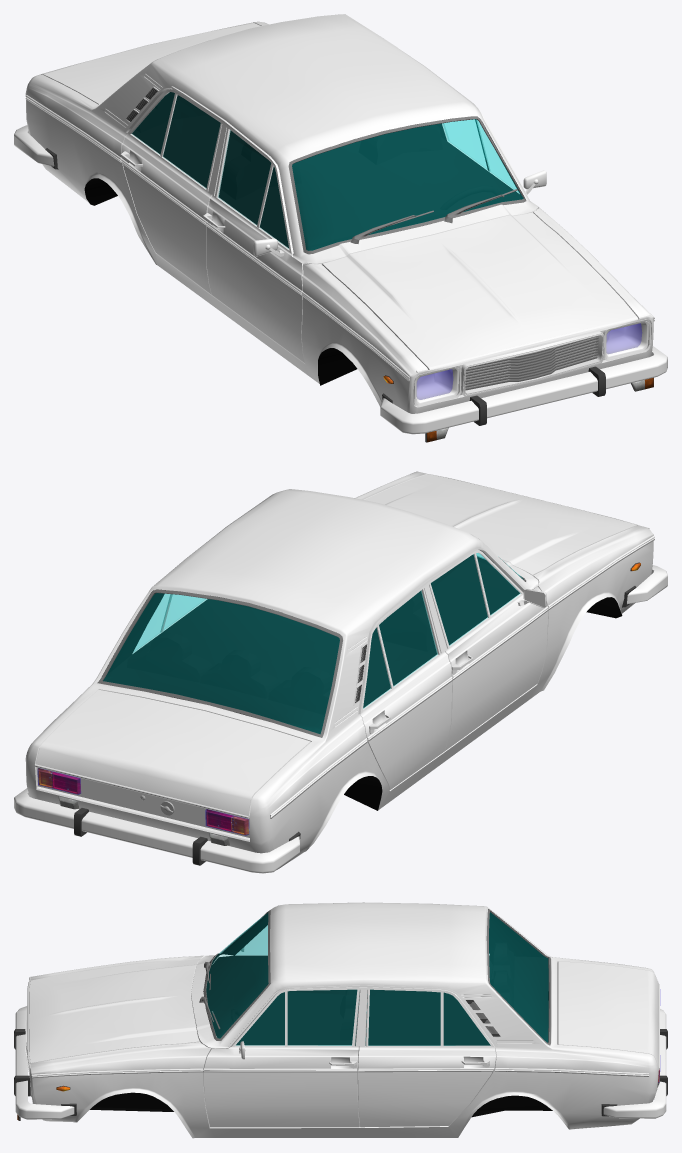
File: peykan.FBX
3 views of the same model, one above another, from view 1: azimuth 30°, elevation 25°; view 2: azimuth 150°, elevation 25°; view 3: azimuth 270°, elevation 25° (orthographic). The views are drawn at different scales.
Visible parts, largest first — view 1: Main; view 2: Main; view 3: Main.
Boxes of the visible parts, box(x1,y1,x2,y2) form: Main: box(14, 14, 667, 442); Main: box(14, 471, 667, 873); Main: box(14, 902, 667, 1138).
Size of the model in its own units: 171 by 113 by 413.
Materials: 2 (1 with a texture image).
